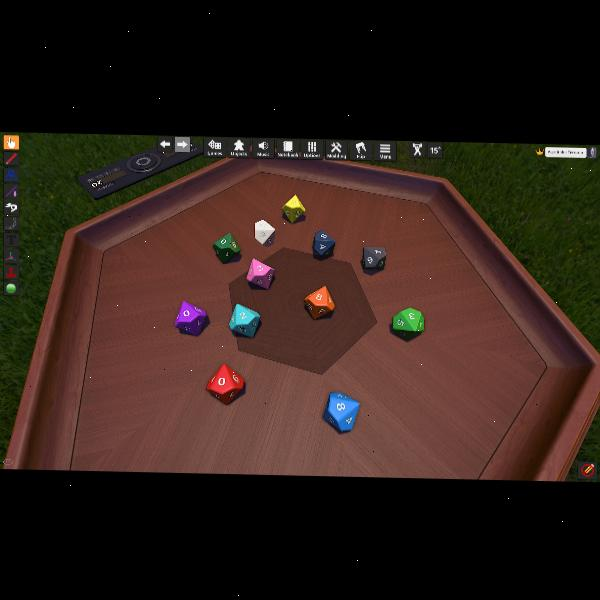d10: (206, 363, 244, 403), (323, 391, 359, 432), (174, 301, 206, 336), (230, 303, 262, 336), (303, 285, 333, 319), (246, 257, 276, 289), (392, 307, 424, 337), (212, 233, 240, 263), (282, 194, 306, 223), (313, 230, 335, 258), (254, 218, 276, 246), (362, 246, 386, 269)
